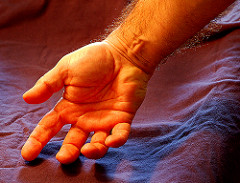palm: (59, 49, 133, 124)
